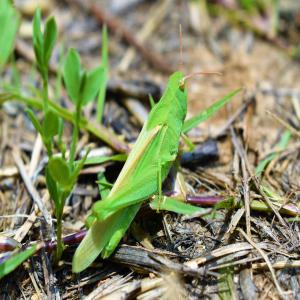locust: (69, 20, 226, 280)
